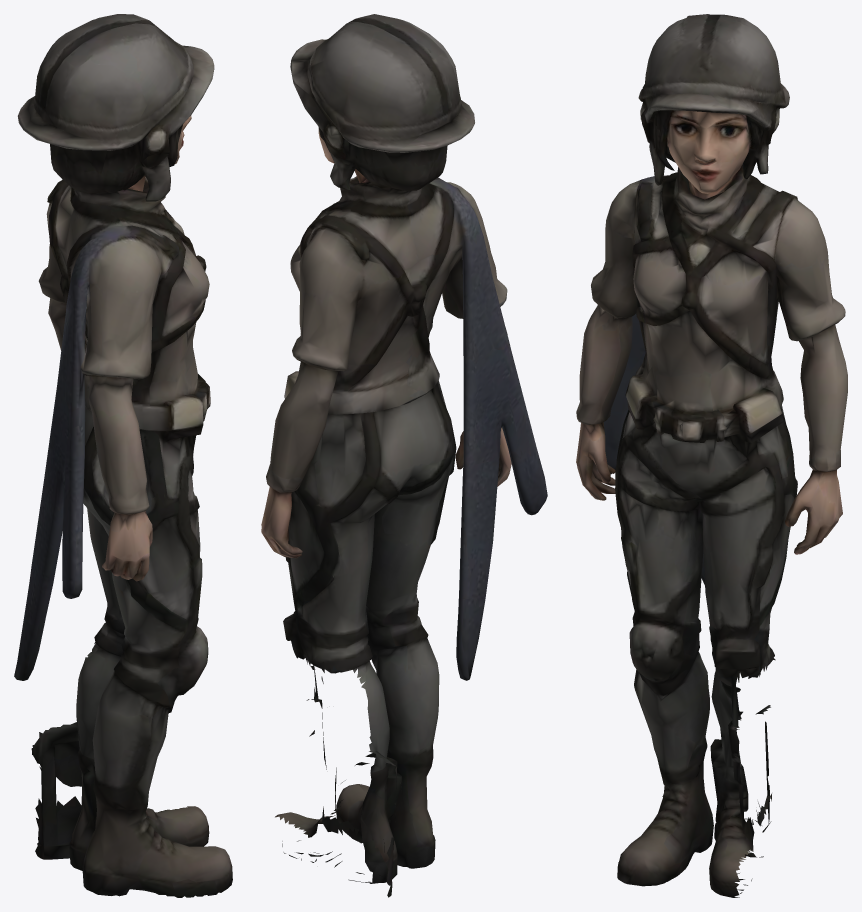
Rendered from civilian.glb.
The picture shows the model from 3 angles, left to right: view 1: azimuth 30°, elevation 25°; view 2: azimuth 150°, elevation 25°; view 3: azimuth 270°, elevation 25°; orthographic projection. The views are drawn at different scales.
Parts seen in each view (by area): view 1: tripo_node_126b81a4-cac0-4dc9-8e41-9f8ef41114cf; view 2: tripo_node_126b81a4-cac0-4dc9-8e41-9f8ef41114cf; view 3: tripo_node_126b81a4-cac0-4dc9-8e41-9f8ef41114cf.
Part boxes in pixels (left/top/right/bottom): tripo_node_126b81a4-cac0-4dc9-8e41-9f8ef41114cf: left=14, top=14, right=232, bottom=897; tripo_node_126b81a4-cac0-4dc9-8e41-9f8ef41114cf: left=261, top=14, right=547, bottom=897; tripo_node_126b81a4-cac0-4dc9-8e41-9f8ef41114cf: left=576, top=14, right=847, bottom=897.
Bounding box in the file's own units: 0.2563 × 0.9995 × 0.2952.
1 material, 1 textured.
